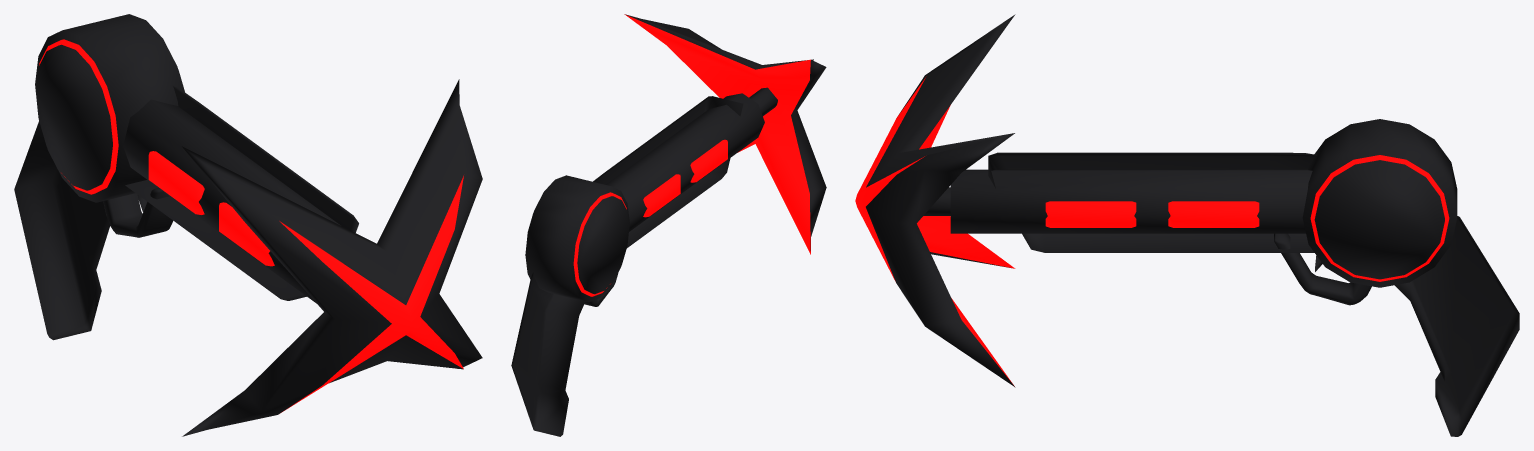
Rendered from hook.fbx.
3 renders of one model, left to right at view 1: azimuth 30°, elevation 25°; view 2: azimuth 150°, elevation 25°; view 3: azimuth 270°, elevation 25°, orthographic. The views are drawn at different scales.
Visible parts, largest first — view 1: side leds.005; view 2: side leds.005; view 3: side leds.005.
Boxes of the visible parts, box(x1,y1,x2,y2) form: side leds.005: box(14, 14, 482, 436); side leds.005: box(511, 14, 826, 436); side leds.005: box(855, 14, 1519, 436).
Size of the model in its own units: 92.34 by 39.09 by 54.52.
